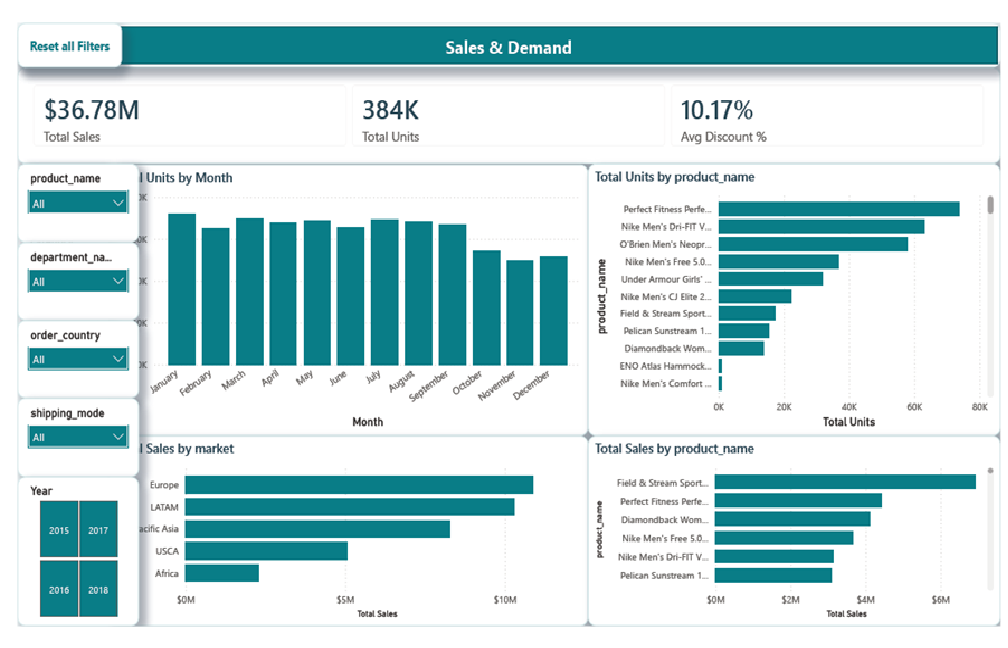

What the dashboard file says about the page in this screenshot:
{"tool":"powerbi","page":{"name":"Sales & Demand","canvas":[1280,720],"ordinal":1},"visuals":[{"type":"cardVisual","fields":{"Data":["fact_order_line.Total Sales","fact_order_line.Total Units","fact_order_line.Avg Discount %"]},"box":[0,53.3,1280,115],"z":0},{"type":"clusteredColumnChart","fields":{"Category":["dim_date.full_date.Variation.Date Hierarchy.Month"],"Y":["fact_order_line.Total Units"]},"box":[118.6,168.6,624.3,324.3],"z":1000},{"type":"clusteredBarChart","fields":{"Y":["fact_order_line.Total Units"],"Category":["dim_product.product_name"]},"box":[743.3,168.3,536.7,325],"z":2000},{"type":"barChart","fields":{"Category":["dim_geo.market"],"Y":["fact_order_line.Total Sales"]},"box":[118.6,492.9,624.3,227.1],"z":3000},{"type":"slicer","fields":{"Values":["dim_geo.market"]},"box":[0,168.6,118.6,75.7],"z":4000},{"type":"slicer","fields":{"Values":["dim_product.category_name"]},"box":[0,244.3,118.6,74.3],"z":5000},{"type":"slicer","fields":{"Values":["dim_date.year"]},"box":[0,318.6,118.6,65.7],"z":6000},{"type":"shape","title":"Sale and demans","box":[0,0,1280,53.3],"z":7000},{"type":"clusteredBarChart","fields":{"Category":["dim_product.product_name"],"Y":["fact_order_line.Total Sales"]},"box":[743.3,493.3,536.7,226.7],"z":8000},{"type":"slicer","fields":{"Values":["dim_product.product_name"]},"box":[0,168.3,158.3,93.3],"z":8001},{"type":"slicer","fields":{"Values":["dim_product.department_name"]},"box":[0,261.7,158.3,93.3],"z":8002},{"type":"slicer","fields":{"Values":["dim_geo.order_country"]},"box":[0,355,158.3,93.3],"z":8003},{"type":"slicer","fields":{"Values":["dim_shipping_mode.shipping_mode"]},"box":[0,448.3,158.3,93.3],"z":8004},{"type":"slicer","fields":{"Values":["dim_date.full_date.Variation.Date Hierarchy.Year"]},"box":[0,541.7,158.3,178.3],"z":8005},{"type":"actionButton","box":[1.7,0,116.7,53.3],"z":8006}]}

Visuals, with their boxes on the page's 1280x720 design canvas (x1, y1, x2, y2). These are canvas units, not pixel positions in the 1008x648 screenshot, which may show the page scaled, cropped or inside an application window:
cardVisual - fact_order_line.Total Sales x fact_order_line.Total Units: 0:53:1280:168
clusteredColumnChart - dim_date.full_date.Variation.Date Hierarchy.Month x fact_order_line.Total Units: 119:169:743:493
clusteredBarChart - fact_order_line.Total Units x dim_product.product_name: 743:168:1280:493
barChart - dim_geo.market x fact_order_line.Total Sales: 119:493:743:720
slicer - dim_geo.market: 0:169:119:244
slicer - dim_product.category_name: 0:244:119:319
slicer - dim_date.year: 0:319:119:384
"Sale and demans" shape: 0:0:1280:53
clusteredBarChart - dim_product.product_name x fact_order_line.Total Sales: 743:493:1280:720
slicer - dim_product.product_name: 0:168:158:262
slicer - dim_product.department_name: 0:262:158:355
slicer - dim_geo.order_country: 0:355:158:448
slicer - dim_shipping_mode.shipping_mode: 0:448:158:542
slicer - dim_date.full_date.Variation.Date Hierarchy.Year: 0:542:158:720
actionButton: 2:0:118:53
